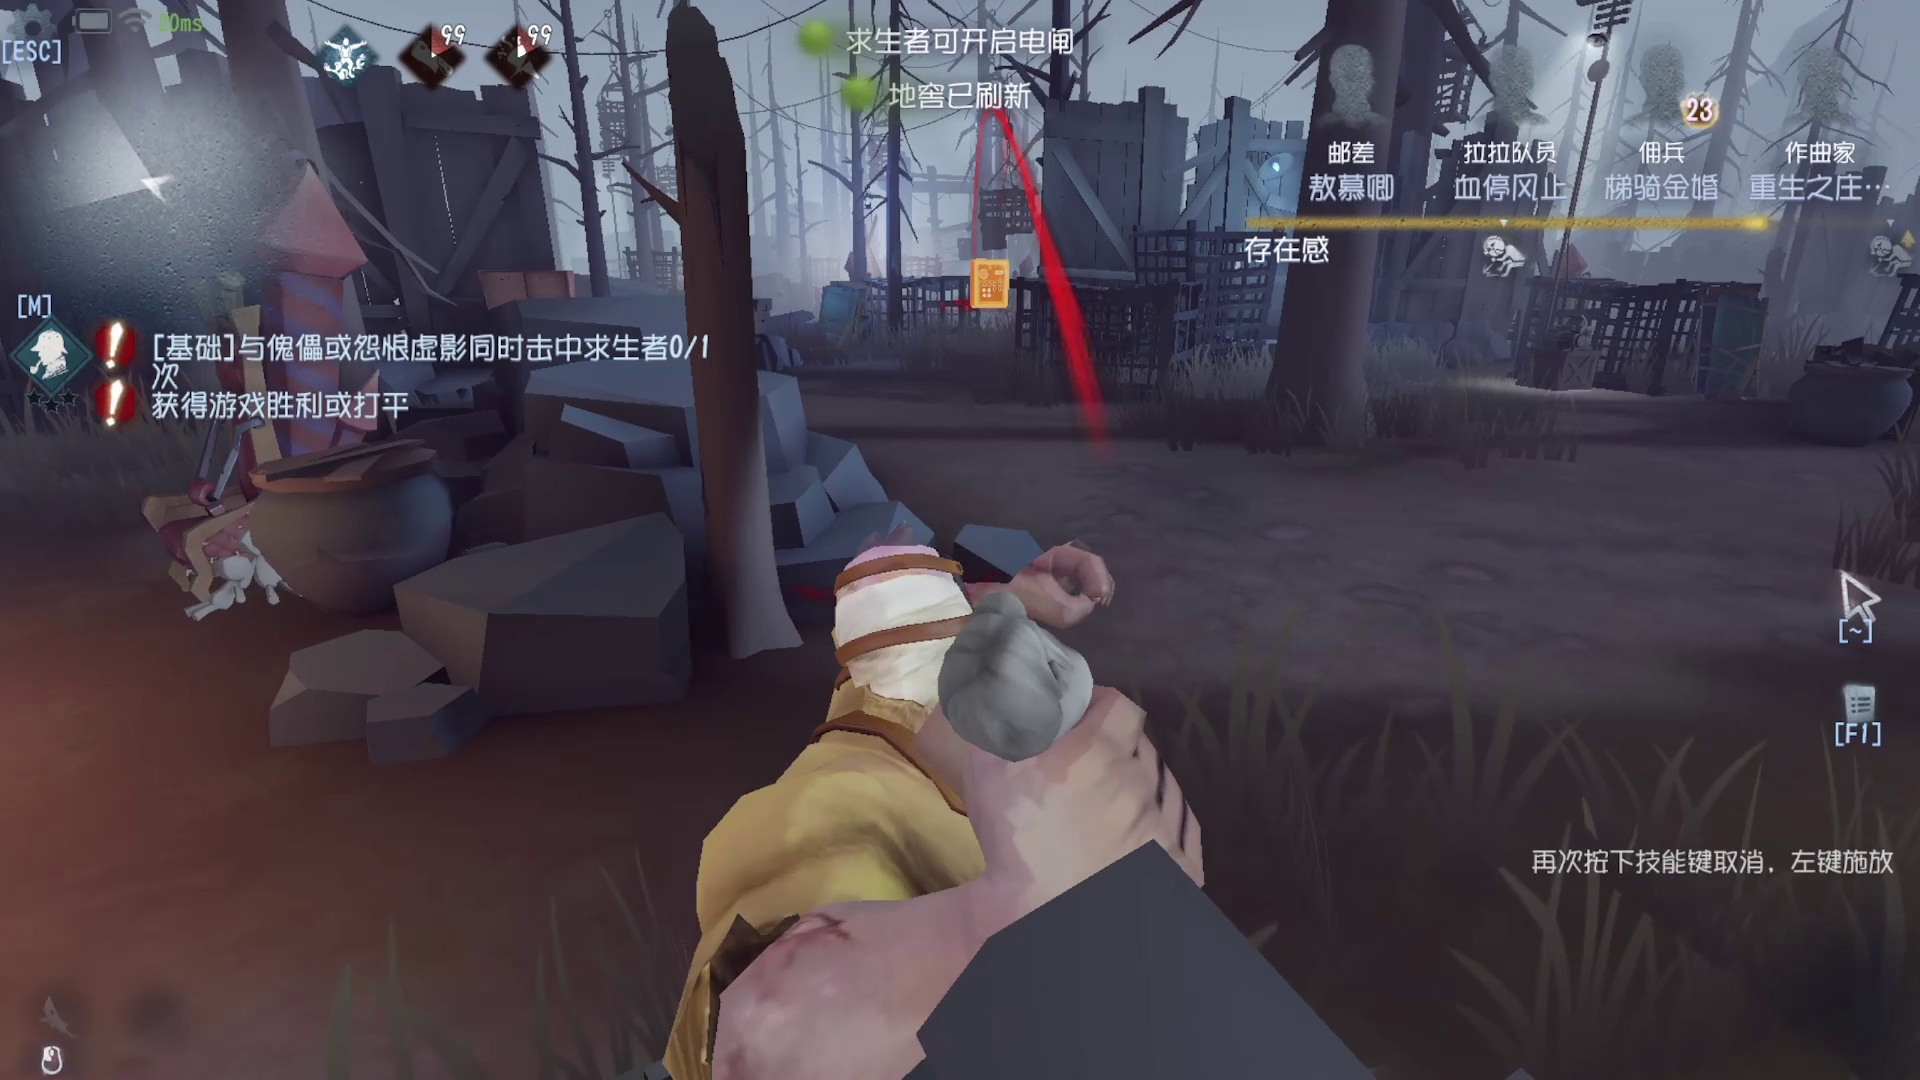木板: (804, 266, 864, 349)
狂欢之椅: (157, 167, 380, 603)
设置: (1, 1, 88, 79)
